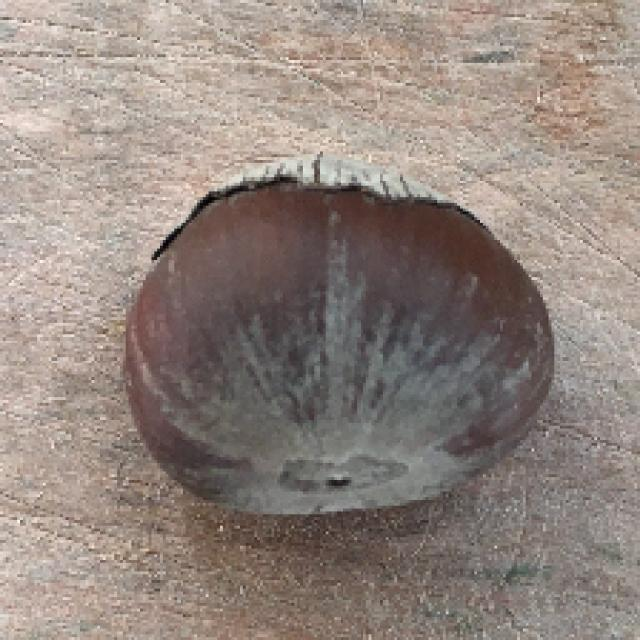damagedHazelnut: (103, 154, 565, 534)
